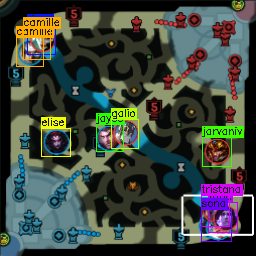camille: (18, 38, 41, 64)
elise: (43, 129, 67, 153)
galio: (114, 120, 137, 144)
jarvaniv: (205, 139, 228, 163)
jayce: (96, 126, 120, 150)
riven: (30, 26, 54, 51)
sona: (206, 215, 230, 241)
taric: (214, 205, 236, 229)
tristana: (202, 195, 227, 222)
